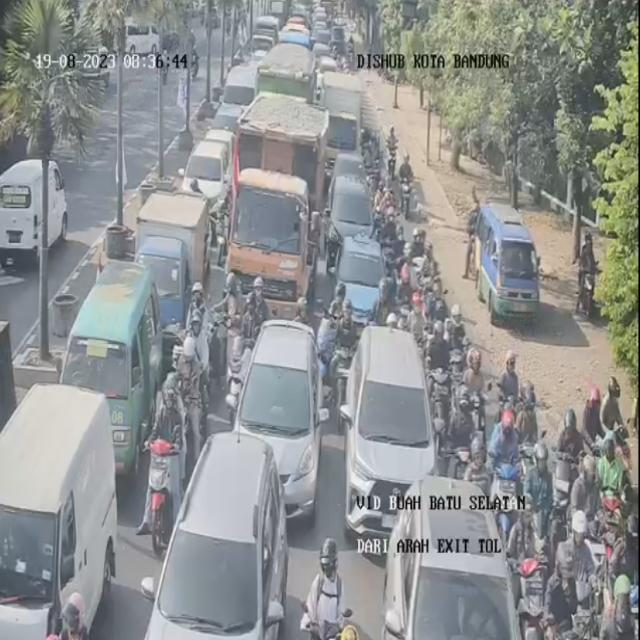bunch of motorcycle: (505, 387, 638, 640)
cars: (148, 437, 294, 640), (388, 475, 525, 640), (349, 323, 442, 552), (55, 263, 156, 458), (232, 321, 327, 518), (476, 202, 544, 328), (338, 229, 388, 329), (326, 161, 372, 263), (189, 138, 230, 225), (329, 148, 370, 208), (228, 63, 258, 128), (315, 55, 339, 86)
motorcycle: (142, 377, 194, 542), (305, 535, 356, 640), (532, 551, 588, 638), (492, 394, 528, 522), (552, 409, 583, 536), (166, 334, 202, 440), (569, 456, 603, 567), (527, 441, 556, 570), (444, 382, 477, 482), (598, 432, 622, 546), (179, 282, 208, 374), (430, 321, 456, 422), (520, 381, 544, 487), (457, 347, 485, 435), (599, 568, 632, 640), (413, 228, 439, 315), (502, 350, 525, 444), (430, 279, 454, 355), (446, 308, 467, 387), (394, 256, 414, 328), (396, 149, 416, 218), (380, 184, 400, 242), (408, 224, 428, 278), (364, 125, 381, 188), (361, 122, 375, 178), (385, 121, 397, 161)
truck: (0, 378, 118, 635), (129, 190, 212, 362), (227, 164, 312, 319), (323, 68, 366, 175), (254, 40, 313, 106), (290, 10, 309, 42)
